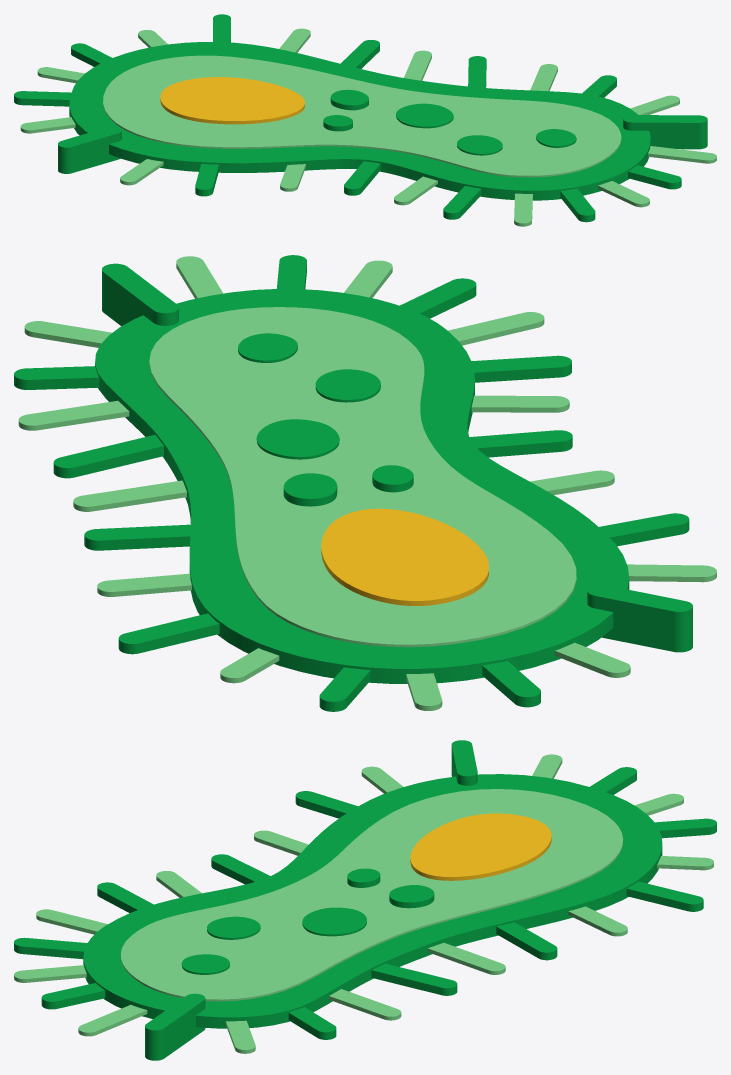
Rendered from emoji_u1f9a0.glb.
The picture shows the model from 3 angles, top to bottom: view 1: azimuth 30°, elevation 25°; view 2: azimuth 150°, elevation 25°; view 3: azimuth 270°, elevation 25°; orthographic projection. The views are drawn at different scales.
Parts seen in each view (by area): view 1: emoji_u1f9a0; view 2: emoji_u1f9a0; view 3: emoji_u1f9a0.
Part boxes in pixels (x1,y1,x2,y2): emoji_u1f9a0: (14, 14, 716, 226); emoji_u1f9a0: (14, 255, 716, 711); emoji_u1f9a0: (14, 740, 716, 1060).
Size of the model in its own units: 0.0335 by 0.0016 by 0.0335.
